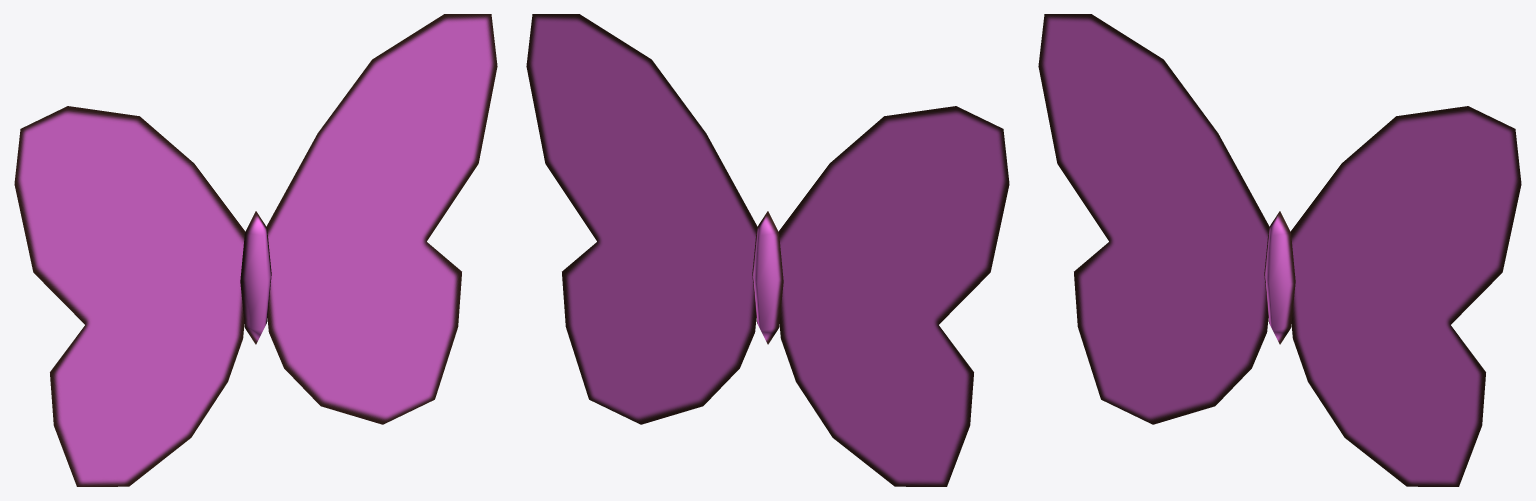
The model's file is Butterfly.fbx.
3 views of the same model, side by side, from view 1: azimuth 30°, elevation 25°; view 2: azimuth 150°, elevation 25°; view 3: azimuth 330°, elevation 25° (orthographic).
Visible parts, largest first — view 1: Butterfly; view 2: Butterfly; view 3: Butterfly.
Part boxes in pixels (x1,y1,x2,y2): Butterfly: (14, 14, 497, 486); Butterfly: (526, 14, 1009, 486); Butterfly: (1038, 14, 1521, 486).
Size of the model in its own units: 0.5767 by 0.4515 by 0.0418.
Materials: 1 (1 with a texture image).
